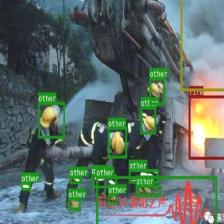fire: (188, 95, 224, 158)
smoke: (180, 0, 224, 91)
